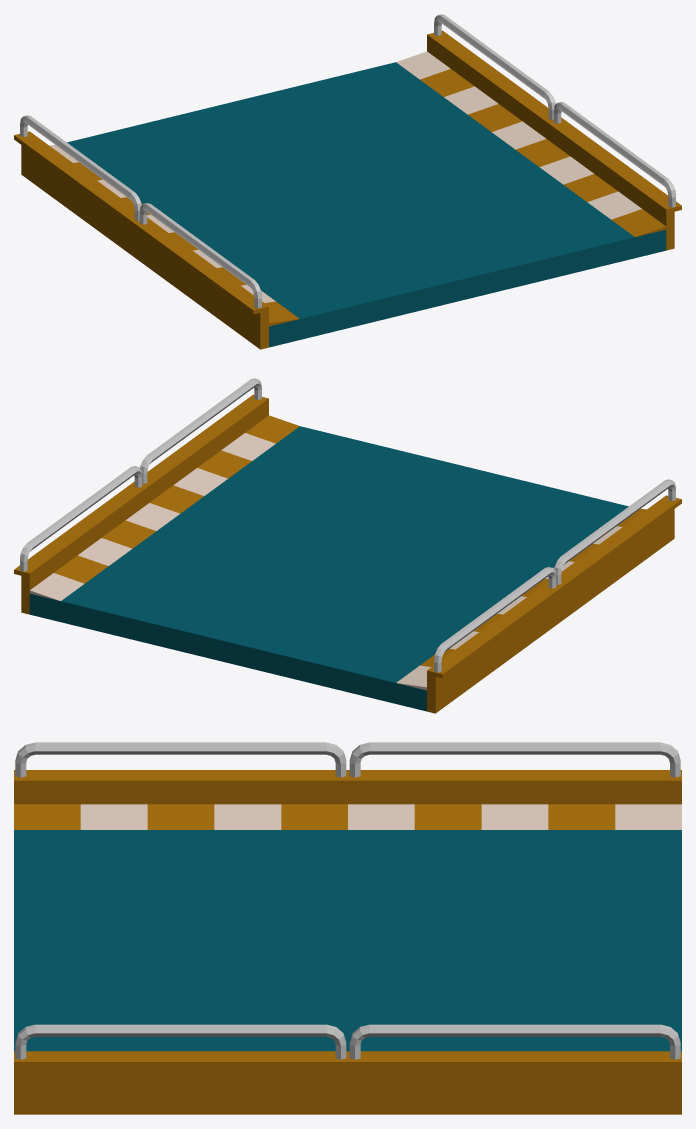
The model's file is straight_s.FBX.
The picture shows the model from 3 angles, top to bottom: view 1: azimuth 30°, elevation 25°; view 2: azimuth 150°, elevation 25°; view 3: azimuth 270°, elevation 25°; orthographic projection. The views are drawn at different scales.
Visible parts, largest first — view 1: straight_s, wall_r, wall_l, curbs_l, curbs_r; view 2: straight_s, wall_r, wall_l, curbs_l, curbs_r; view 3: straight_s, wall_l, wall_r, curbs_r.
Boxes of the visible parts, box(x1,y1,x2,y2) form: straight_s: box(67, 62, 666, 347); wall_r: box(14, 115, 268, 349); wall_l: box(427, 14, 681, 250); curbs_l: box(396, 51, 666, 237); curbs_r: box(49, 144, 299, 326); straight_s: box(29, 426, 628, 711); wall_r: box(427, 479, 681, 713); wall_l: box(14, 378, 268, 614); curbs_l: box(29, 415, 299, 600); curbs_r: box(396, 508, 646, 690); straight_s: box(14, 830, 681, 1051); wall_l: box(14, 1024, 681, 1114); wall_r: box(14, 742, 681, 804); curbs_r: box(14, 804, 681, 829).
Size of what is drawn, in the model's own units: 207 by 29.31 by 200.
